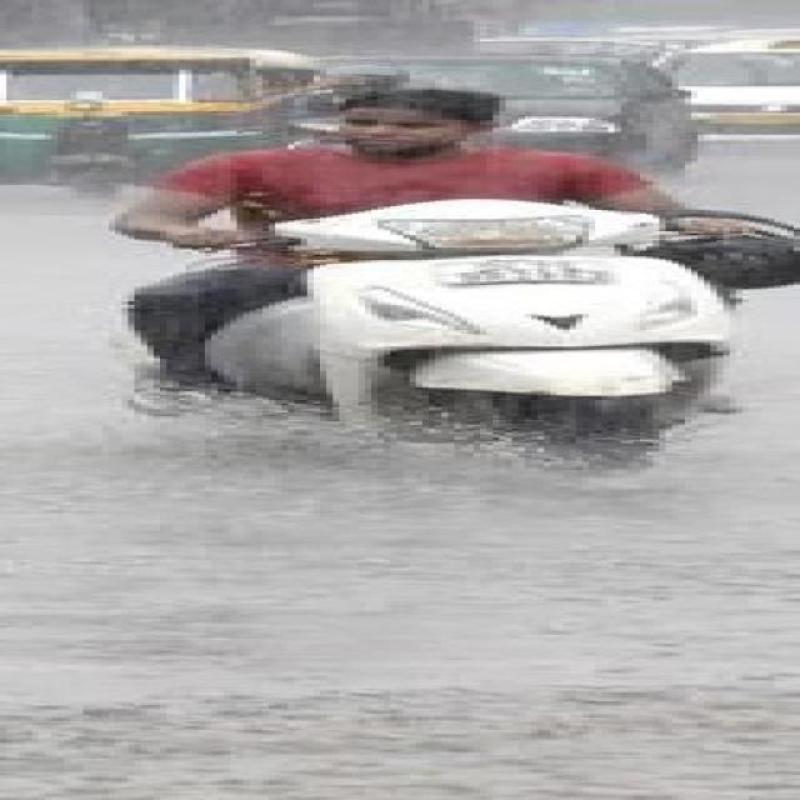nohelmet: (332, 88, 542, 158)
